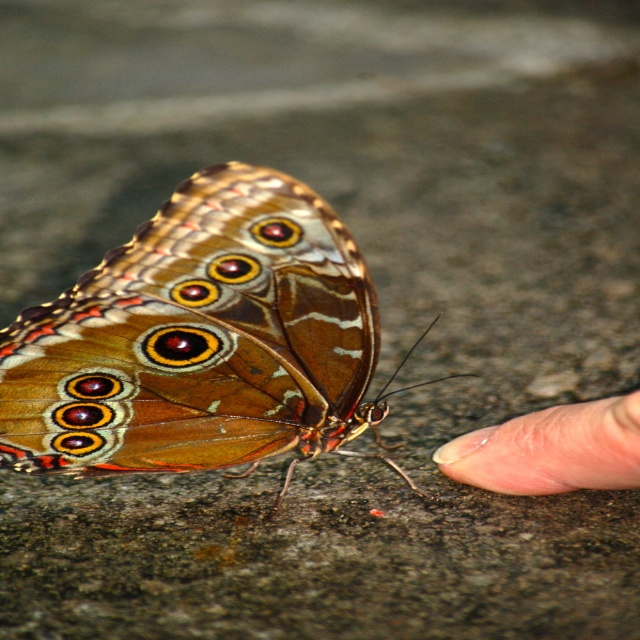Butterfly: (48, 171, 468, 530)
